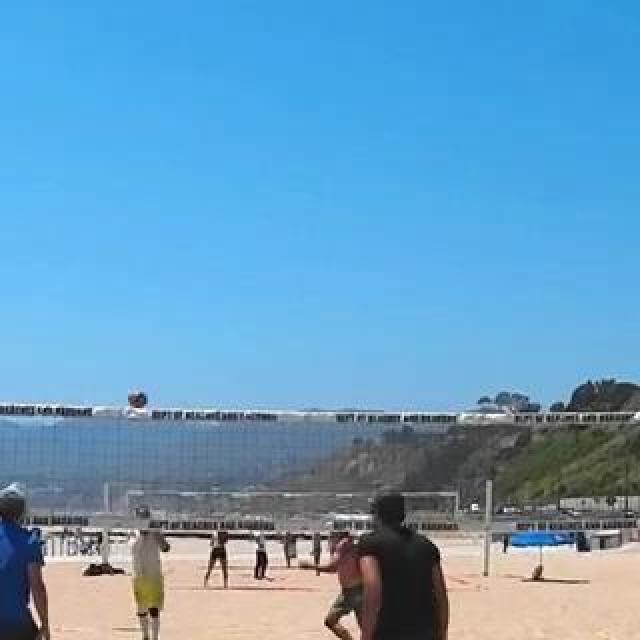volleyball: (126, 390, 148, 410)
